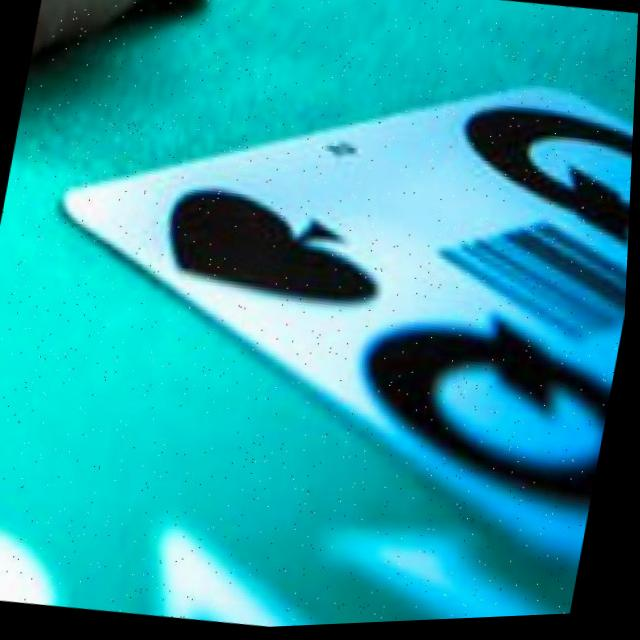Card-Q: (66, 91, 635, 574)
